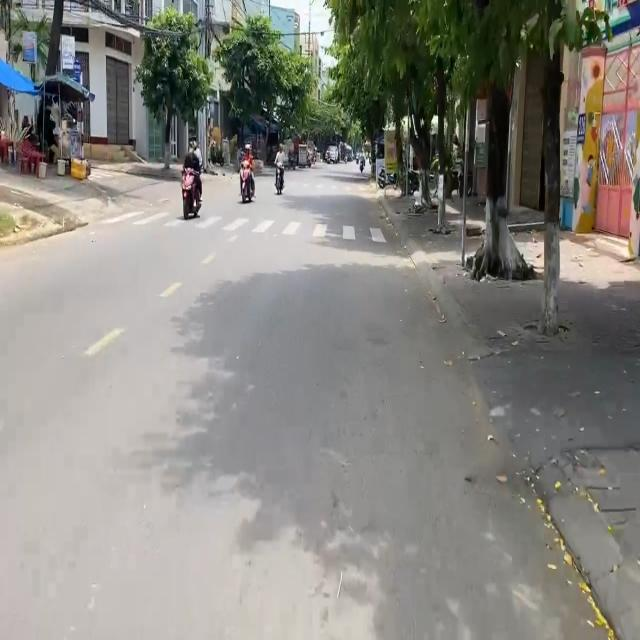walk-crossing: (117, 208, 402, 246)
